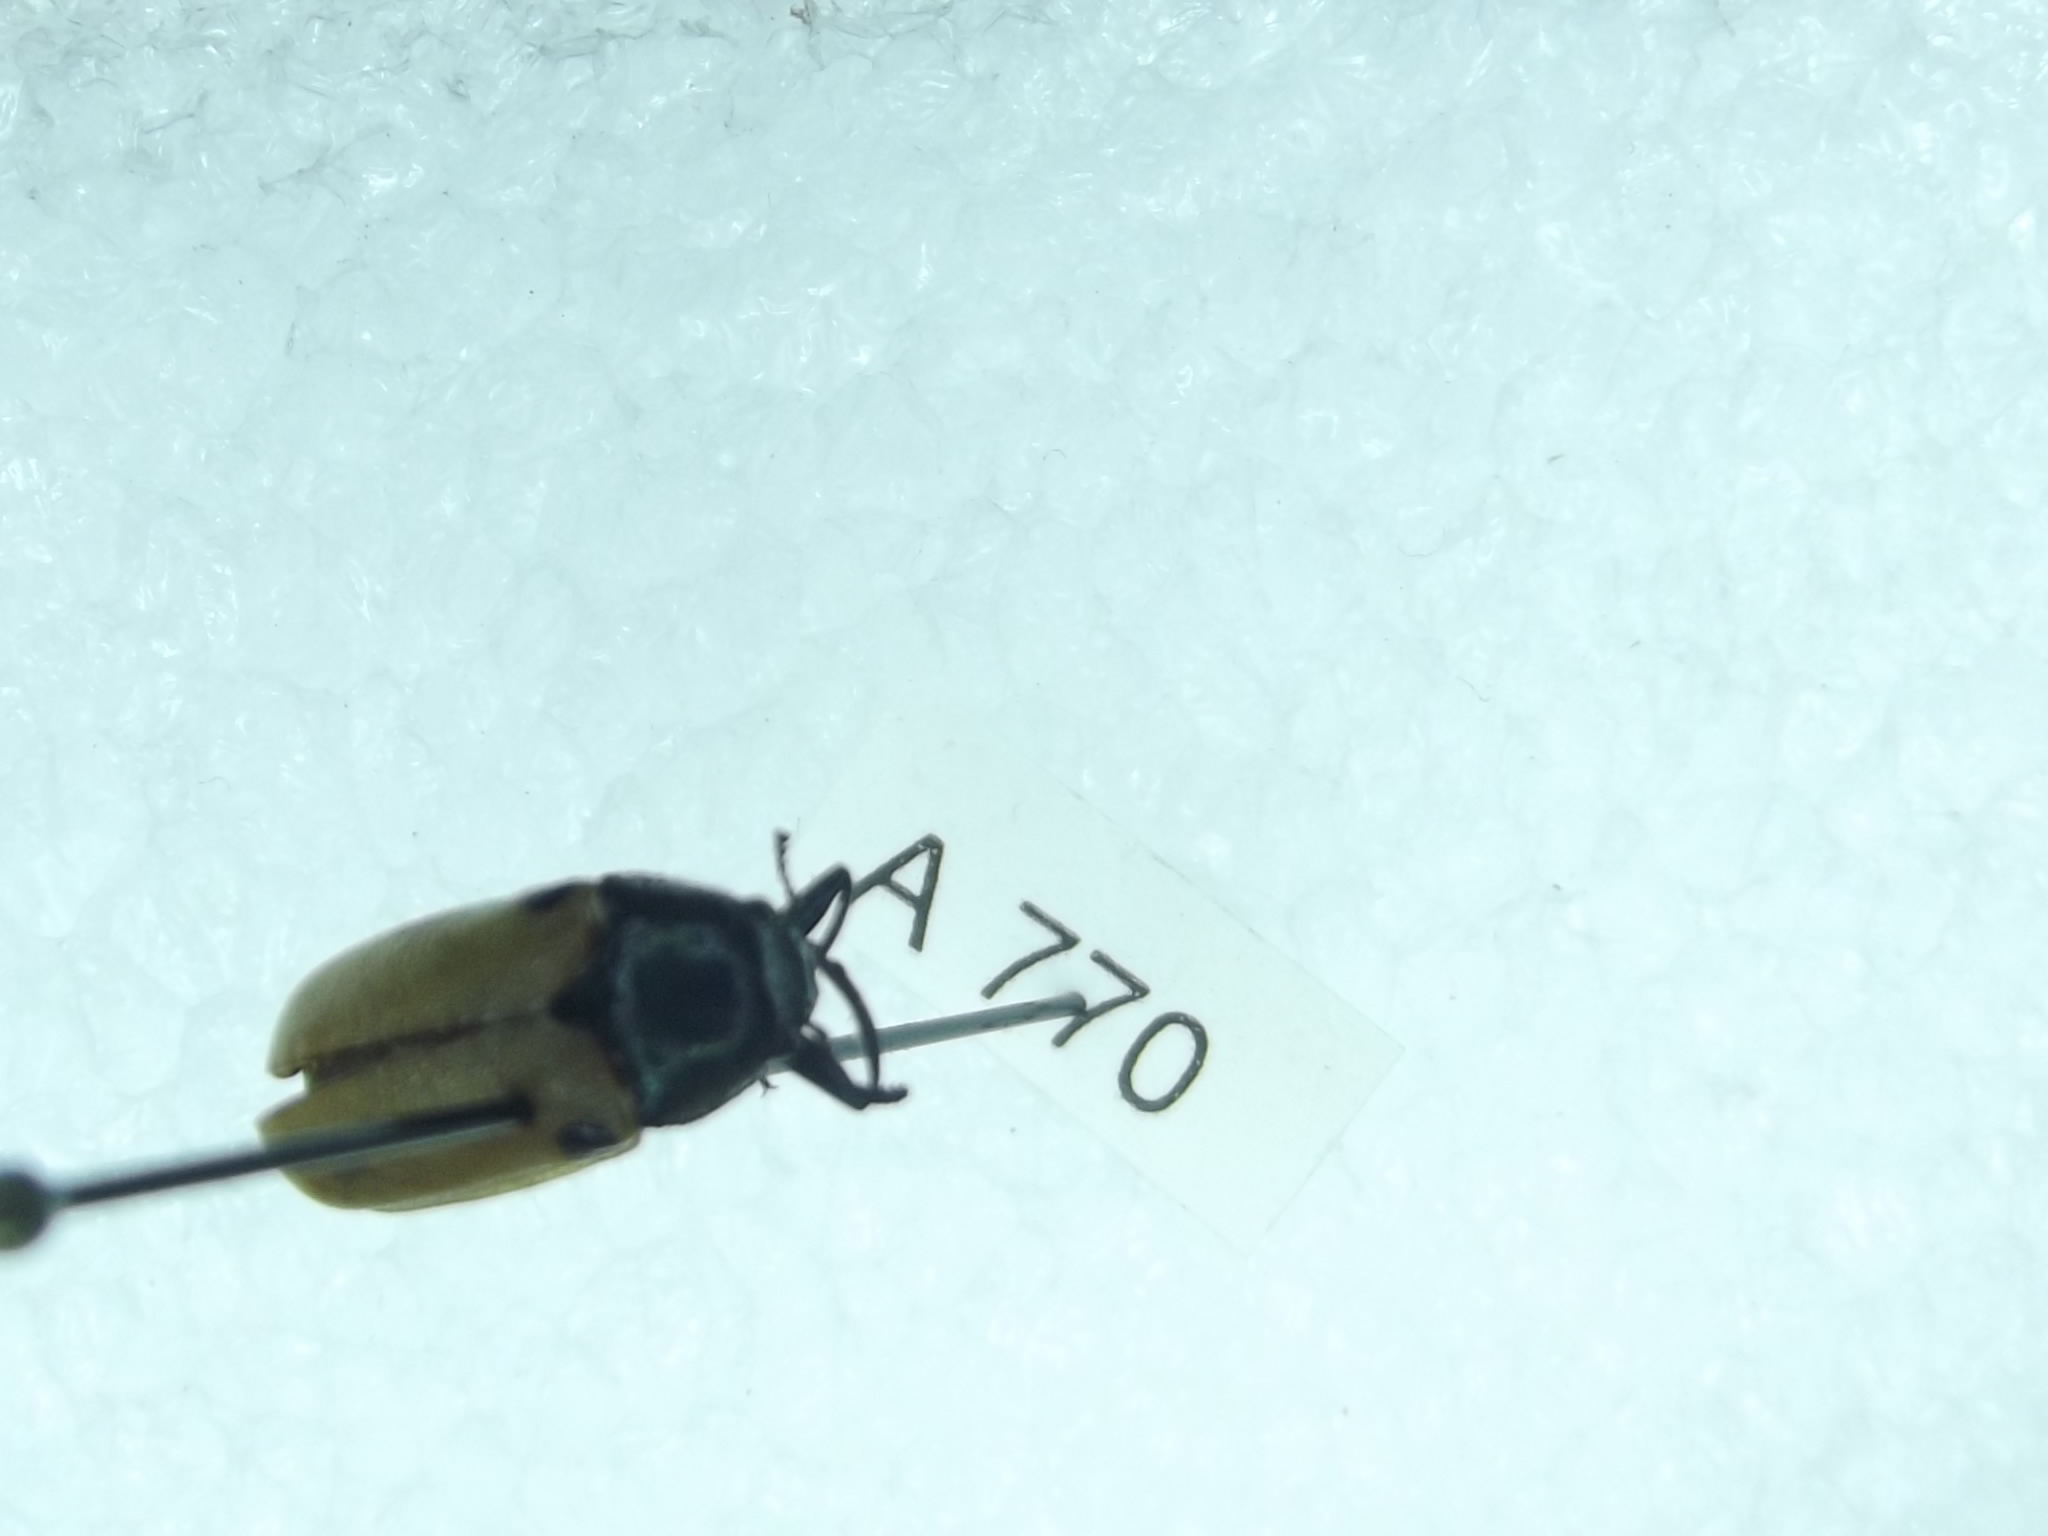Labidostomis_propinqua: (234, 828, 918, 1210)
